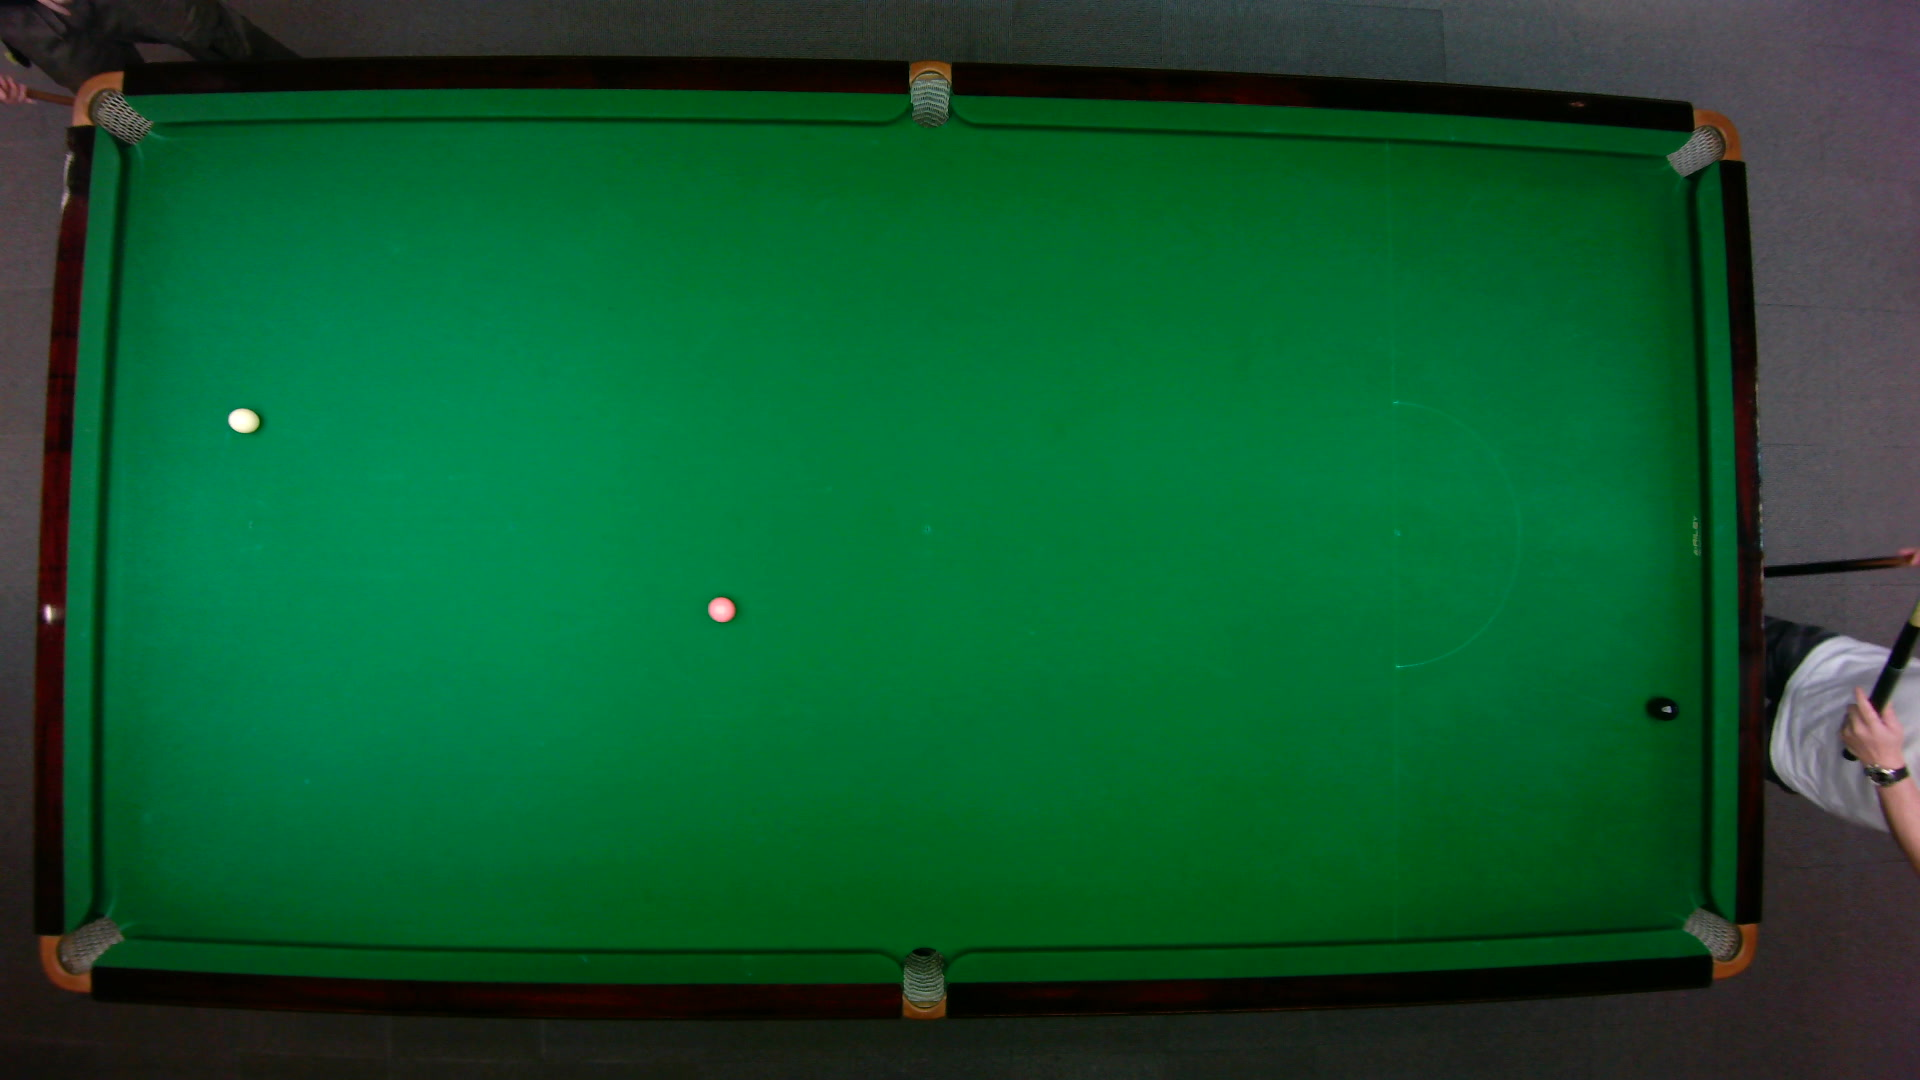bag: (37, 914, 125, 993), (69, 70, 154, 145), (1679, 905, 1758, 978), (1663, 108, 1741, 178), (901, 944, 944, 1021), (909, 57, 949, 128)
black: (1651, 695, 1679, 721)
pink: (705, 595, 735, 622)
white: (225, 405, 261, 434)
zone: (1390, 400, 1519, 669)
